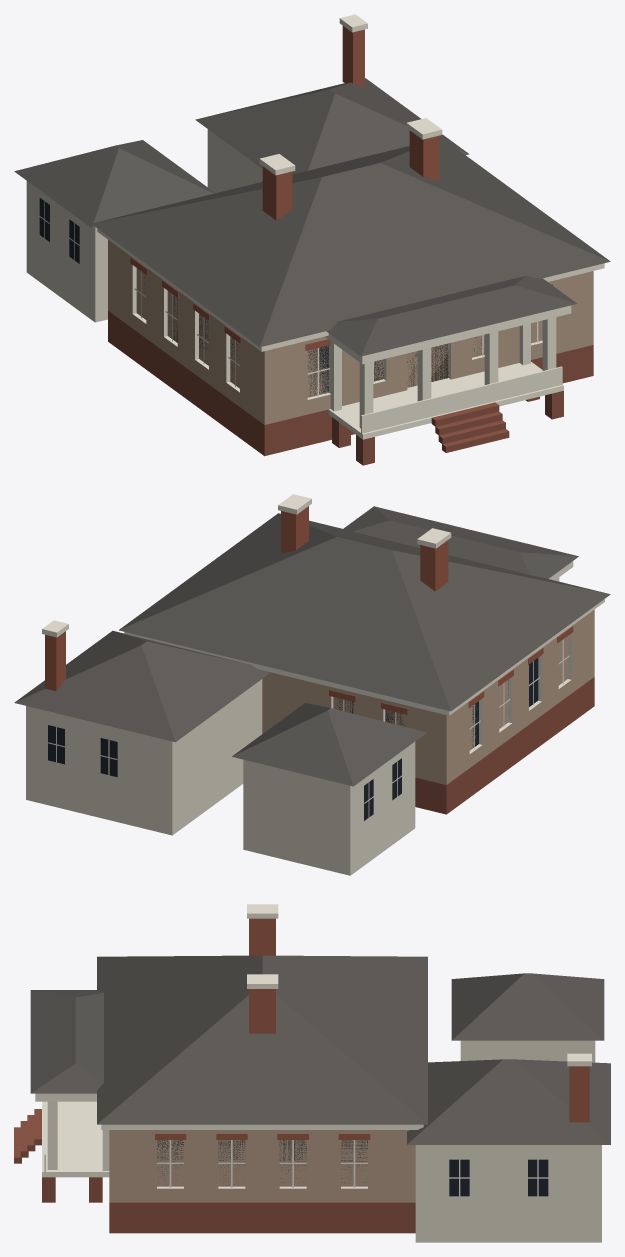
Rendered from curran-hall.glb.
3 renders of one model, top to bottom at view 1: azimuth 30°, elevation 25°; view 2: azimuth 150°, elevation 25°; view 3: azimuth 270°, elevation 25°, orthographic. The views are drawn at different scales.
Parts seen in each view (by area): view 1: curran_roof, curran_brick, curran_trim, curran_pier, curran_board, curran_wood, curran_brick2, curran_base, curran_glass, curran_door, curran_sash; view 2: curran_roof, curran_board, curran_brick, curran_pier, curran_trim, curran_brick2, curran_glass, curran_sash; view 3: curran_roof, curran_brick, curran_board, curran_pier, curran_trim, curran_brick2, curran_glass, curran_wood, curran_base, curran_sash.
Boxes of the visible parts, bbox=[...] form: curran_roof: bbox=[14, 78, 610, 356]; curran_brick: bbox=[108, 240, 593, 424]; curran_trim: bbox=[97, 14, 604, 439]; curran_pier: bbox=[108, 311, 593, 465]; curran_board: bbox=[26, 129, 262, 322]; curran_wood: bbox=[330, 317, 562, 433]; curran_brick2: bbox=[130, 26, 552, 350]; curran_base: bbox=[431, 402, 509, 452]; curran_glass: bbox=[39, 198, 484, 396]; curran_door: bbox=[407, 343, 448, 386]; curran_sash: bbox=[39, 201, 538, 396]; curran_roof: bbox=[14, 506, 610, 786]; curran_board: bbox=[26, 679, 415, 875]; curran_brick: bbox=[262, 610, 594, 784]; curran_pier: bbox=[415, 677, 594, 814]; curran_trim: bbox=[42, 494, 604, 753]; curran_brick2: bbox=[45, 506, 573, 714]; curran_glass: bbox=[48, 658, 538, 820]; curran_sash: bbox=[48, 639, 569, 817]; curran_roof: bbox=[30, 955, 610, 1144]; curran_brick: bbox=[109, 1130, 415, 1202]; curran_board: bbox=[415, 1040, 601, 1242]; curran_pier: bbox=[42, 1177, 415, 1233]; curran_trim: bbox=[35, 904, 591, 1188]; curran_brick2: bbox=[155, 918, 589, 1139]; curran_glass: bbox=[157, 1140, 548, 1196]; curran_wood: bbox=[44, 1101, 109, 1171]; curran_base: bbox=[14, 1109, 41, 1163]; curran_sash: bbox=[157, 1140, 548, 1196].
Size of the model in its own units: 18.56 by 10.35 by 26.61.
